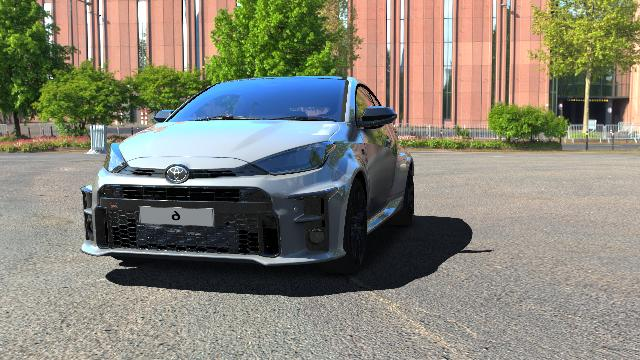License Plate: (138, 207, 214, 224)
